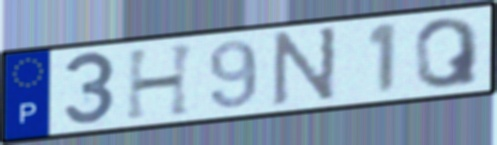1: (364, 20, 400, 99)
3: (62, 48, 118, 131)
9: (207, 38, 261, 111)
H: (123, 40, 200, 123)
N: (269, 24, 341, 109)
Q: (412, 15, 483, 91)
